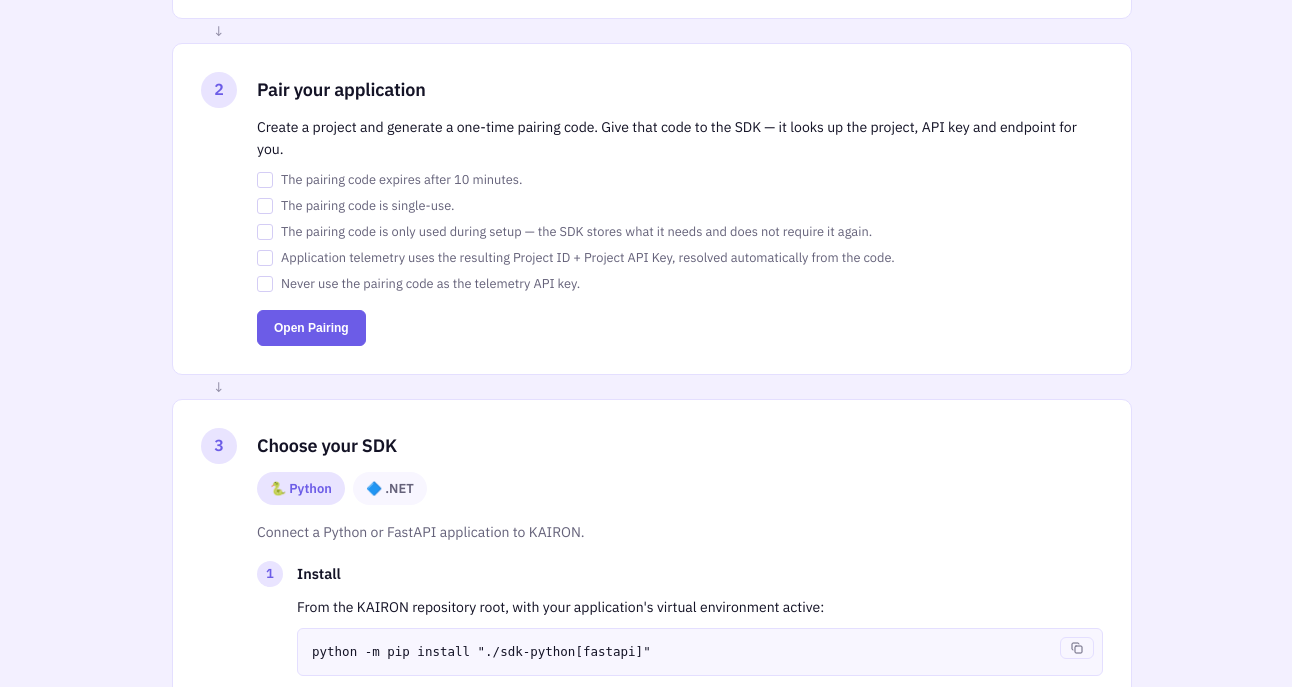
Test: SDK onboarding interactions › opens live pairing without claiming active credentials prove connectivity
The image size is (1292, 687).
(page scrolled)
Click the button "Open Pairing".
click(311, 328)  # box [257, 310, 366, 346]
(page scrolled)
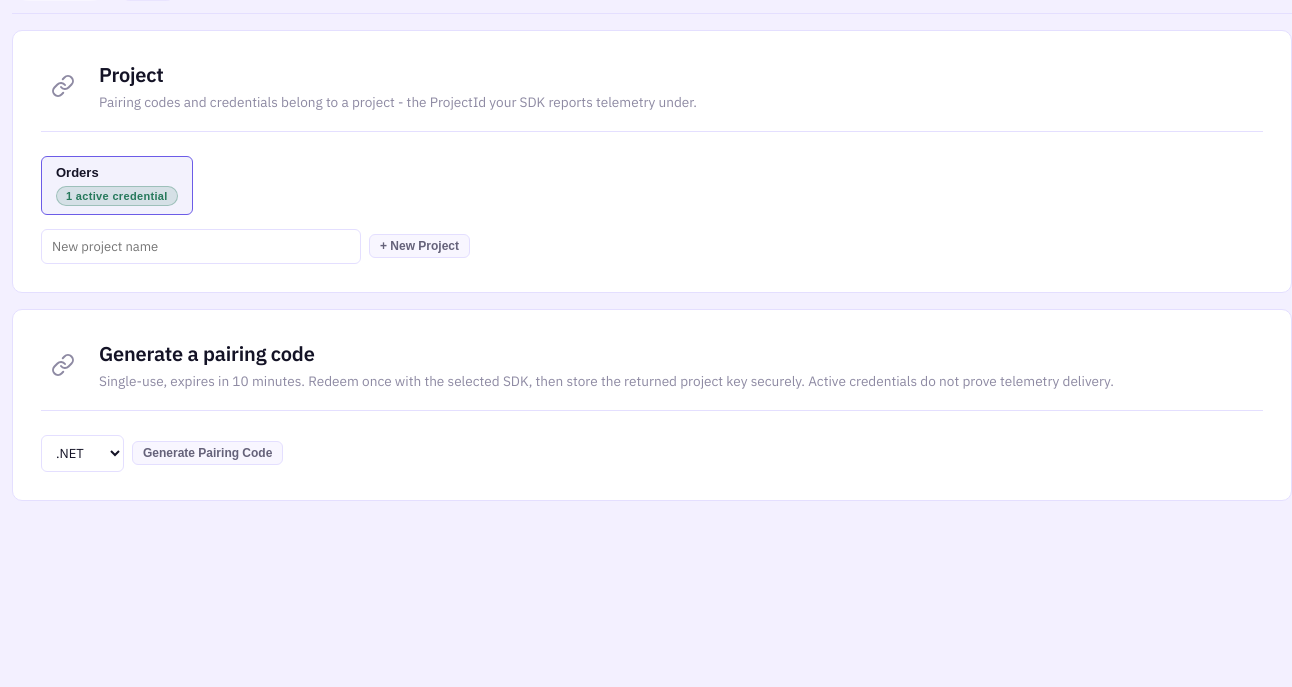
Check: the text "1 active credential" is shown, box [56, 186, 178, 206]
